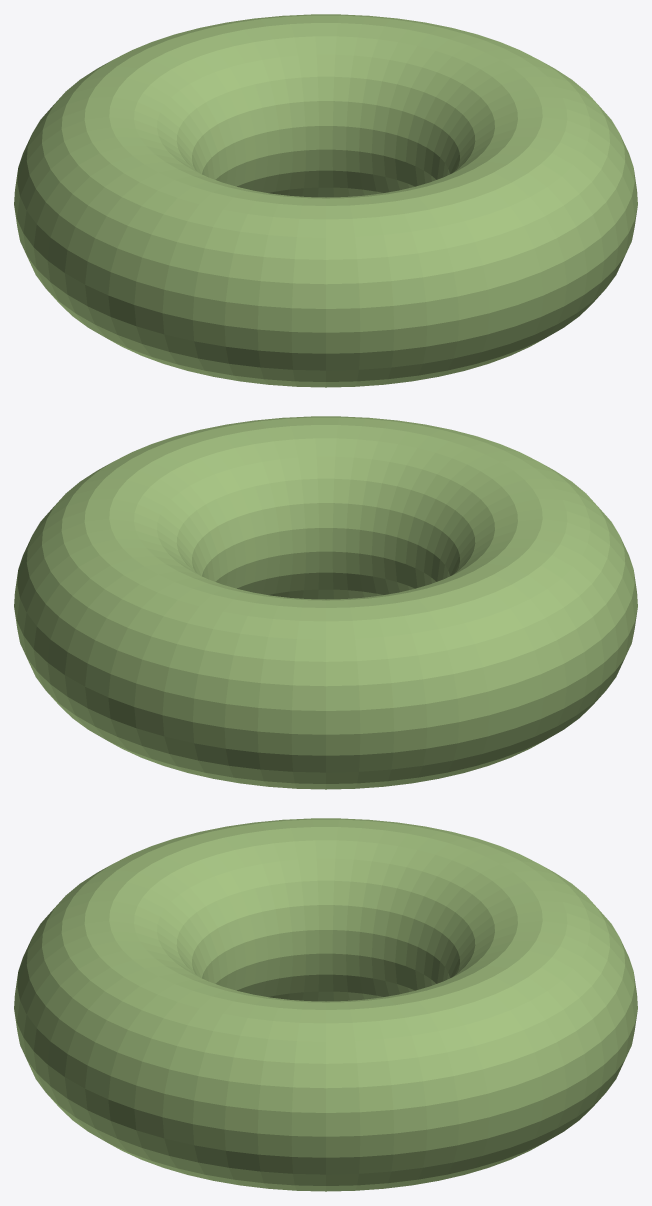
3 views of the same model, one above another, from view 1: azimuth 30°, elevation 25°; view 2: azimuth 150°, elevation 25°; view 3: azimuth 270°, elevation 25° (orthographic).
Visible parts, largest first — view 1: Torus.001; view 2: Torus.001; view 3: Torus.001.
Boxes of the visible parts, <box> form: Torus.001: <box>14,14,637,387</box>; Torus.001: <box>14,416,637,789</box>; Torus.001: <box>14,818,637,1191</box>.
Bounding box in the file's own units: 4.8 × 1.47 × 4.8.
